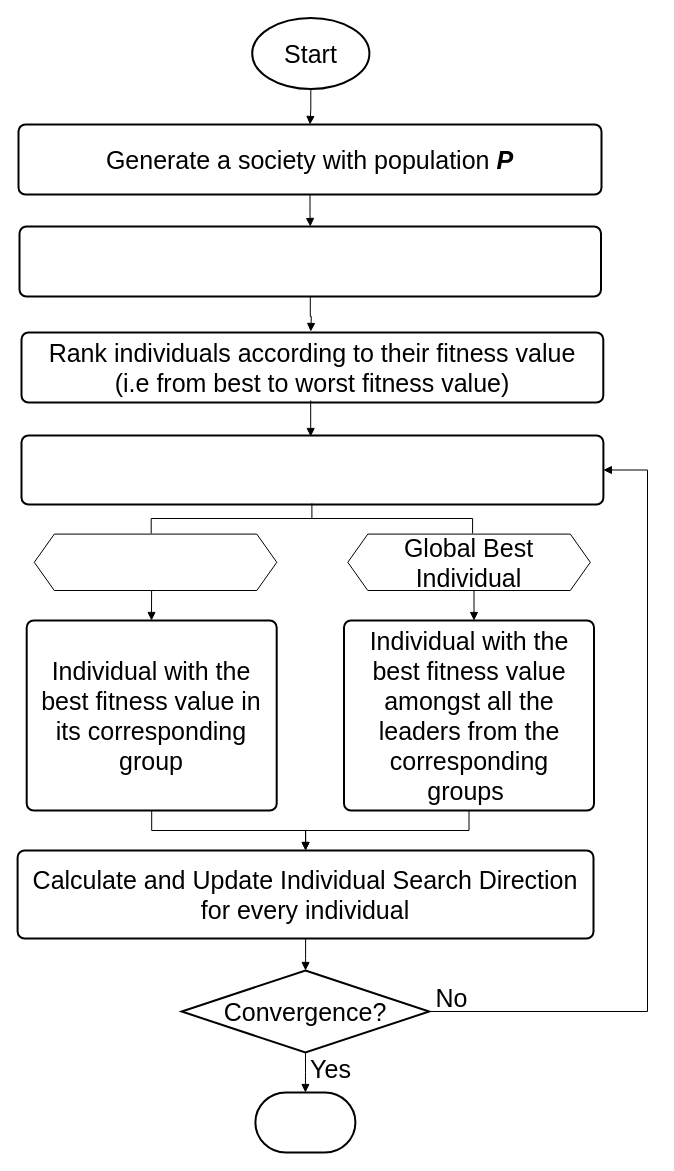
Image size: 674x1171. Some labels were removed from this diagram. Here are the shapes that lost their labels. From the top down, the box of each, then its label:
(18, 225, 602, 297): Assign equal number of Individuals to each Group
(20, 434, 604, 505): Determine Local Best and Best Global Individuals
(33, 533, 277, 590): Local Best Individual
(254, 1091, 356, 1153): End
